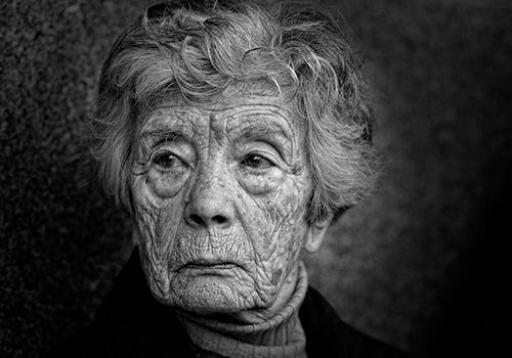left_eye: (237, 153, 283, 174)
left_lip_corner: (234, 259, 250, 275)
right_eye: (149, 151, 191, 173)
right_lip_corner: (178, 259, 195, 275)
